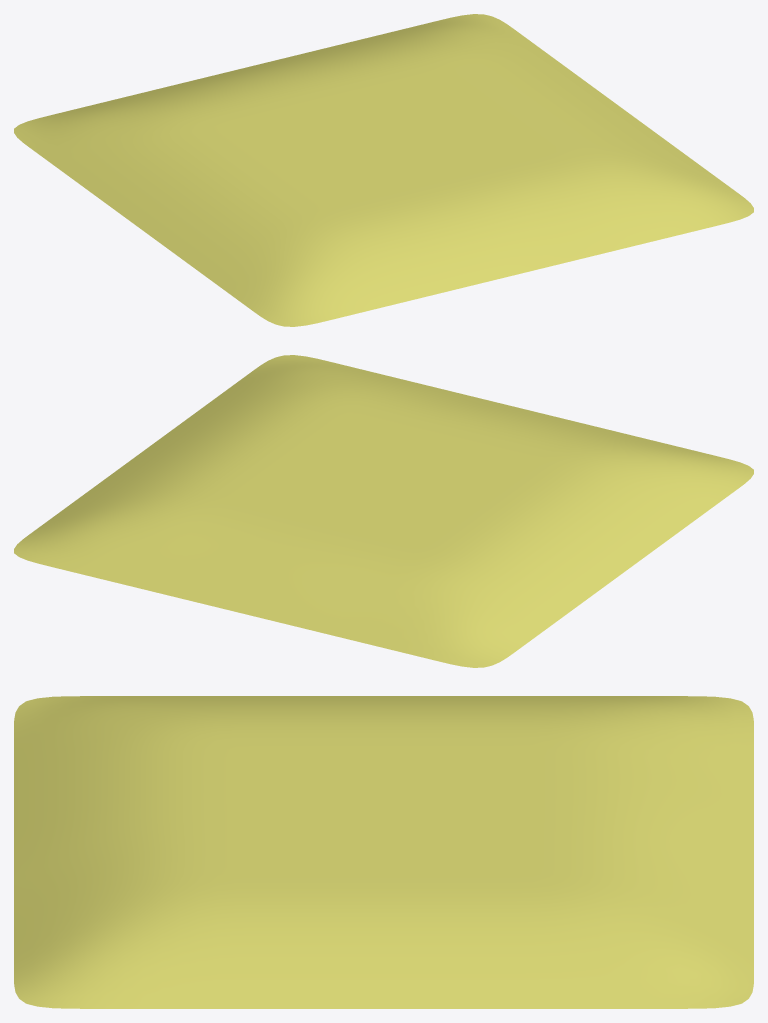
File: Meshareia.fbx
3 renders of one model, top to bottom at view 1: azimuth 30°, elevation 25°; view 2: azimuth 150°, elevation 25°; view 3: azimuth 270°, elevation 25°, orthographic. The views are drawn at different scales.
Visible parts, largest first — view 1: areia; view 2: areia; view 3: areia.
Part boxes in pixels (x1,y1,x2,y2): areia: (14,14,753,326); areia: (14,355,753,667); areia: (14,696,753,1008).
Size of the model in its own units: 4171 by 254 by 4171.
